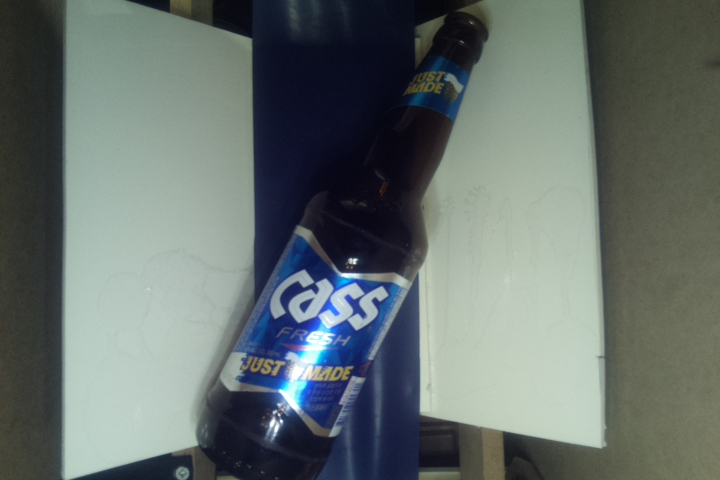makju: (195, 8, 490, 480)
